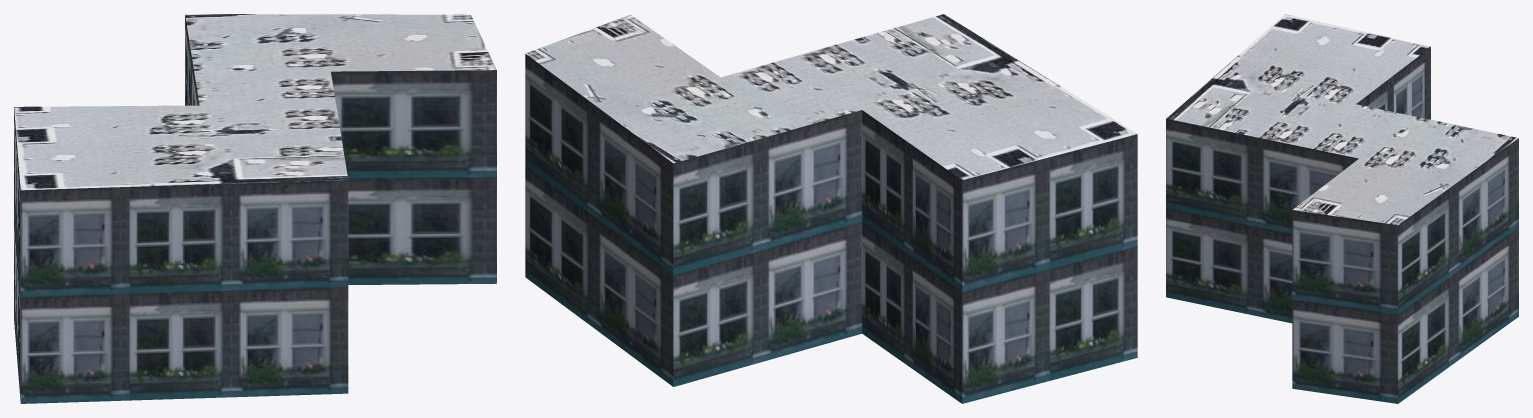
The model's file is ResTex__651.fbx.
3 renders of one model, left to right at view 1: azimuth 30°, elevation 25°; view 2: azimuth 150°, elevation 25°; view 3: azimuth 270°, elevation 25°, orthographic. The views are drawn at different scales.
Visible parts, largest first — view 1: CityEngineMaterial_11_m, CityEngineMaterial_4_m; view 2: CityEngineMaterial_11_m, CityEngineMaterial_4_m; view 3: CityEngineMaterial_11_m, CityEngineMaterial_4_m.
Part boxes in pixels (box(x1,y1,x2,y2)): CityEngineMaterial_11_m: box(14, 15, 496, 403); CityEngineMaterial_4_m: box(14, 14, 496, 190); CityEngineMaterial_11_m: box(525, 54, 1137, 403); CityEngineMaterial_4_m: box(525, 14, 1136, 180); CityEngineMaterial_11_m: box(1166, 47, 1518, 403); CityEngineMaterial_4_m: box(1166, 14, 1518, 225).
Bounding box in the file's own units: 15.21 × 6 × 10.73.
2 materials, 2 textured.
